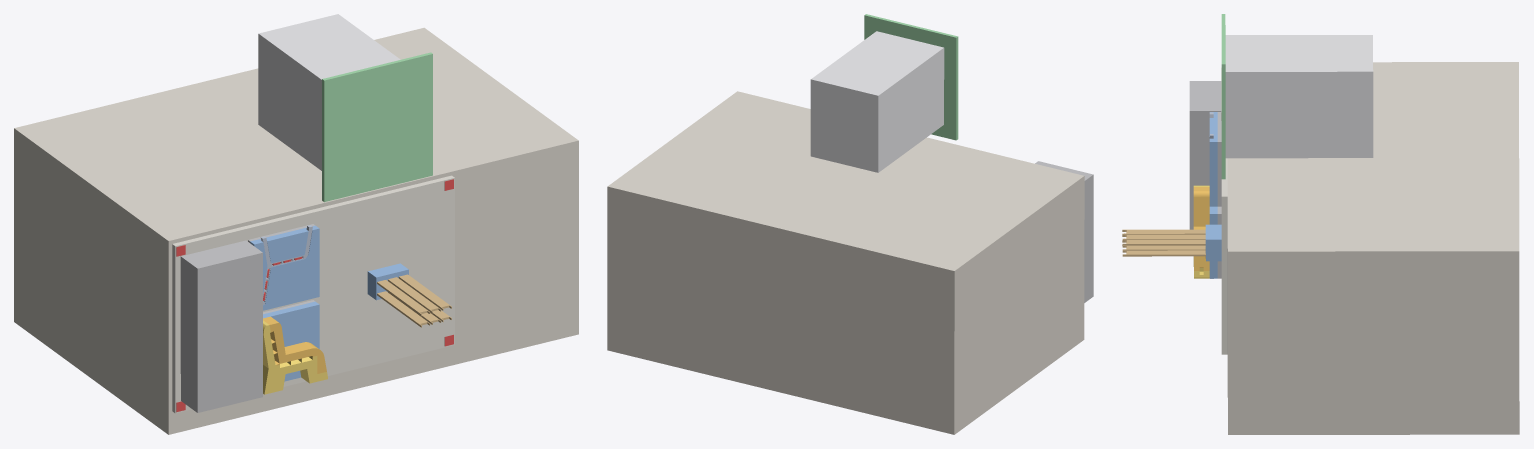
The model's file is cell.glb.
3 renders of one model, left to right at view 1: azimuth 30°, elevation 25°; view 2: azimuth 150°, elevation 25°; view 3: azimuth 270°, elevation 25°, orthographic. The views are drawn at different scales.
Visible parts, largest first — view 1: Table, Ground base plate, AMR plate, Parking pad, AMR top module, Base A, Base B, Guide outer, Guide inner, Plank jig, frame1; view 2: Table, AMR top module, AMR plate, Parking pad; view 3: Table, AMR top module, Parking pad, Ground base plate, Guide inner, AMR plate, Base A, Plank jig, plank4, plank1, plank3, plank2 (+2 smaller).
Boxes of the visible parts, x1,y1,x2,y2 form: Table: (14, 27, 578, 434); Ground base plate: (172, 175, 454, 413); AMR plate: (322, 52, 432, 202); Parking pad: (180, 240, 262, 412); AMR top module: (258, 14, 400, 170); Base A: (250, 225, 319, 310); Base B: (263, 301, 319, 381); Guide outer: (263, 320, 327, 394); Guide inner: (263, 316, 326, 373); Plank jig: (367, 263, 408, 300); frame1: (260, 225, 312, 304); Table: (607, 91, 1084, 434); AMR top module: (810, 31, 944, 172); AMR plate: (864, 14, 958, 140); Parking pad: (1035, 161, 1093, 302); Table: (1227, 62, 1519, 434); AMR top module: (1225, 35, 1373, 158); Parking pad: (1189, 81, 1221, 229); Ground base plate: (1221, 68, 1227, 354); Guide inner: (1193, 187, 1209, 270); AMR plate: (1221, 14, 1225, 179); Base A: (1209, 112, 1217, 206); Plank jig: (1205, 224, 1221, 261); plank4: (1122, 250, 1205, 256); plank1: (1122, 239, 1205, 245); plank3: (1122, 229, 1205, 234); plank2: (1122, 234, 1205, 239).
Bounding box in the file's own units: 1131 × 840 × 1001.
